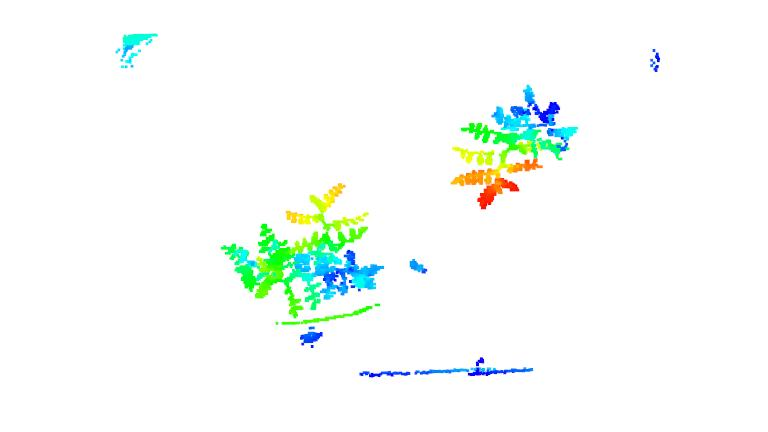chickpea: (439, 82, 585, 215), (216, 227, 385, 322), (268, 183, 378, 274)
